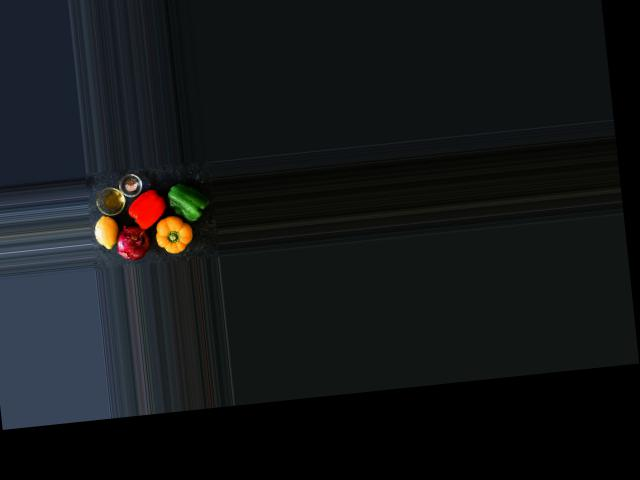bell_pepper: (126, 187, 167, 232)
